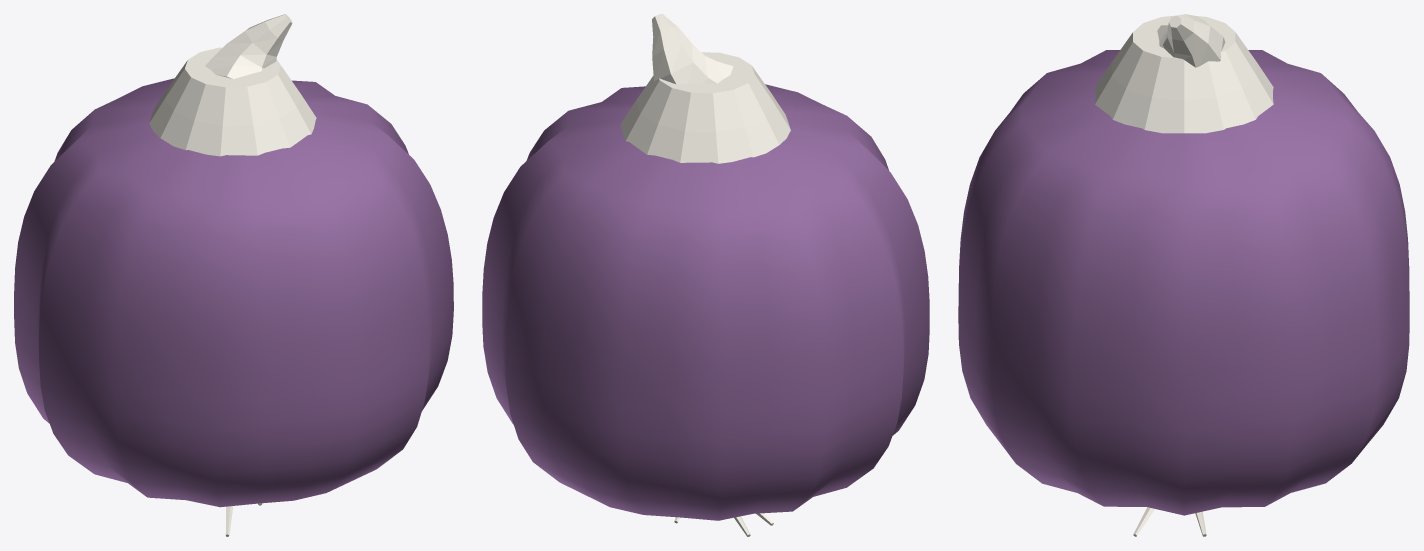
Rendered from red-onion.glb.
3 renders of one model, left to right at view 1: azimuth 30°, elevation 25°; view 2: azimuth 150°, elevation 25°; view 3: azimuth 270°, elevation 25°, orthographic. The views are drawn at different scales.
Parts seen in each view (by area): view 1: onion-red; view 2: onion-red; view 3: onion-red.
Part boxes in pixels (<box>): onion-red: <box>14,14,453,536</box>; onion-red: <box>482,14,929,536</box>; onion-red: <box>958,14,1409,536</box>.
Bounding box in the file's own units: 0.0807 × 0.0941 × 0.0756.
